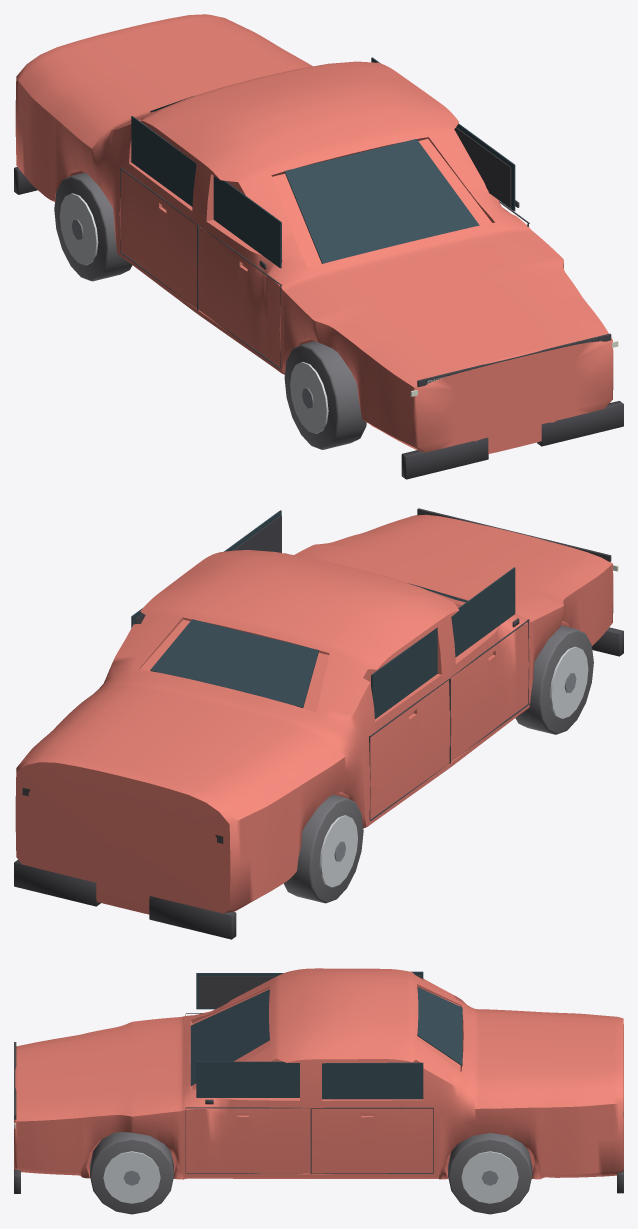
File: Sedan_Compact_24.fbx
3 views of the same model, one above another, from view 1: azimuth 30°, elevation 25°; view 2: azimuth 150°, elevation 25°; view 3: azimuth 270°, elevation 25° (orthographic). The views are drawn at different scales.
Visible parts, largest first — view 1: LOD0; view 2: LOD0; view 3: LOD0.
Part boxes in pixels (x1,y1,x2,y2): LOD0: [14, 14, 623, 479]; LOD0: [14, 508, 623, 939]; LOD0: [14, 968, 623, 1214].
Size of what is drawn, in the model's own units: 181 by 141 by 466.
